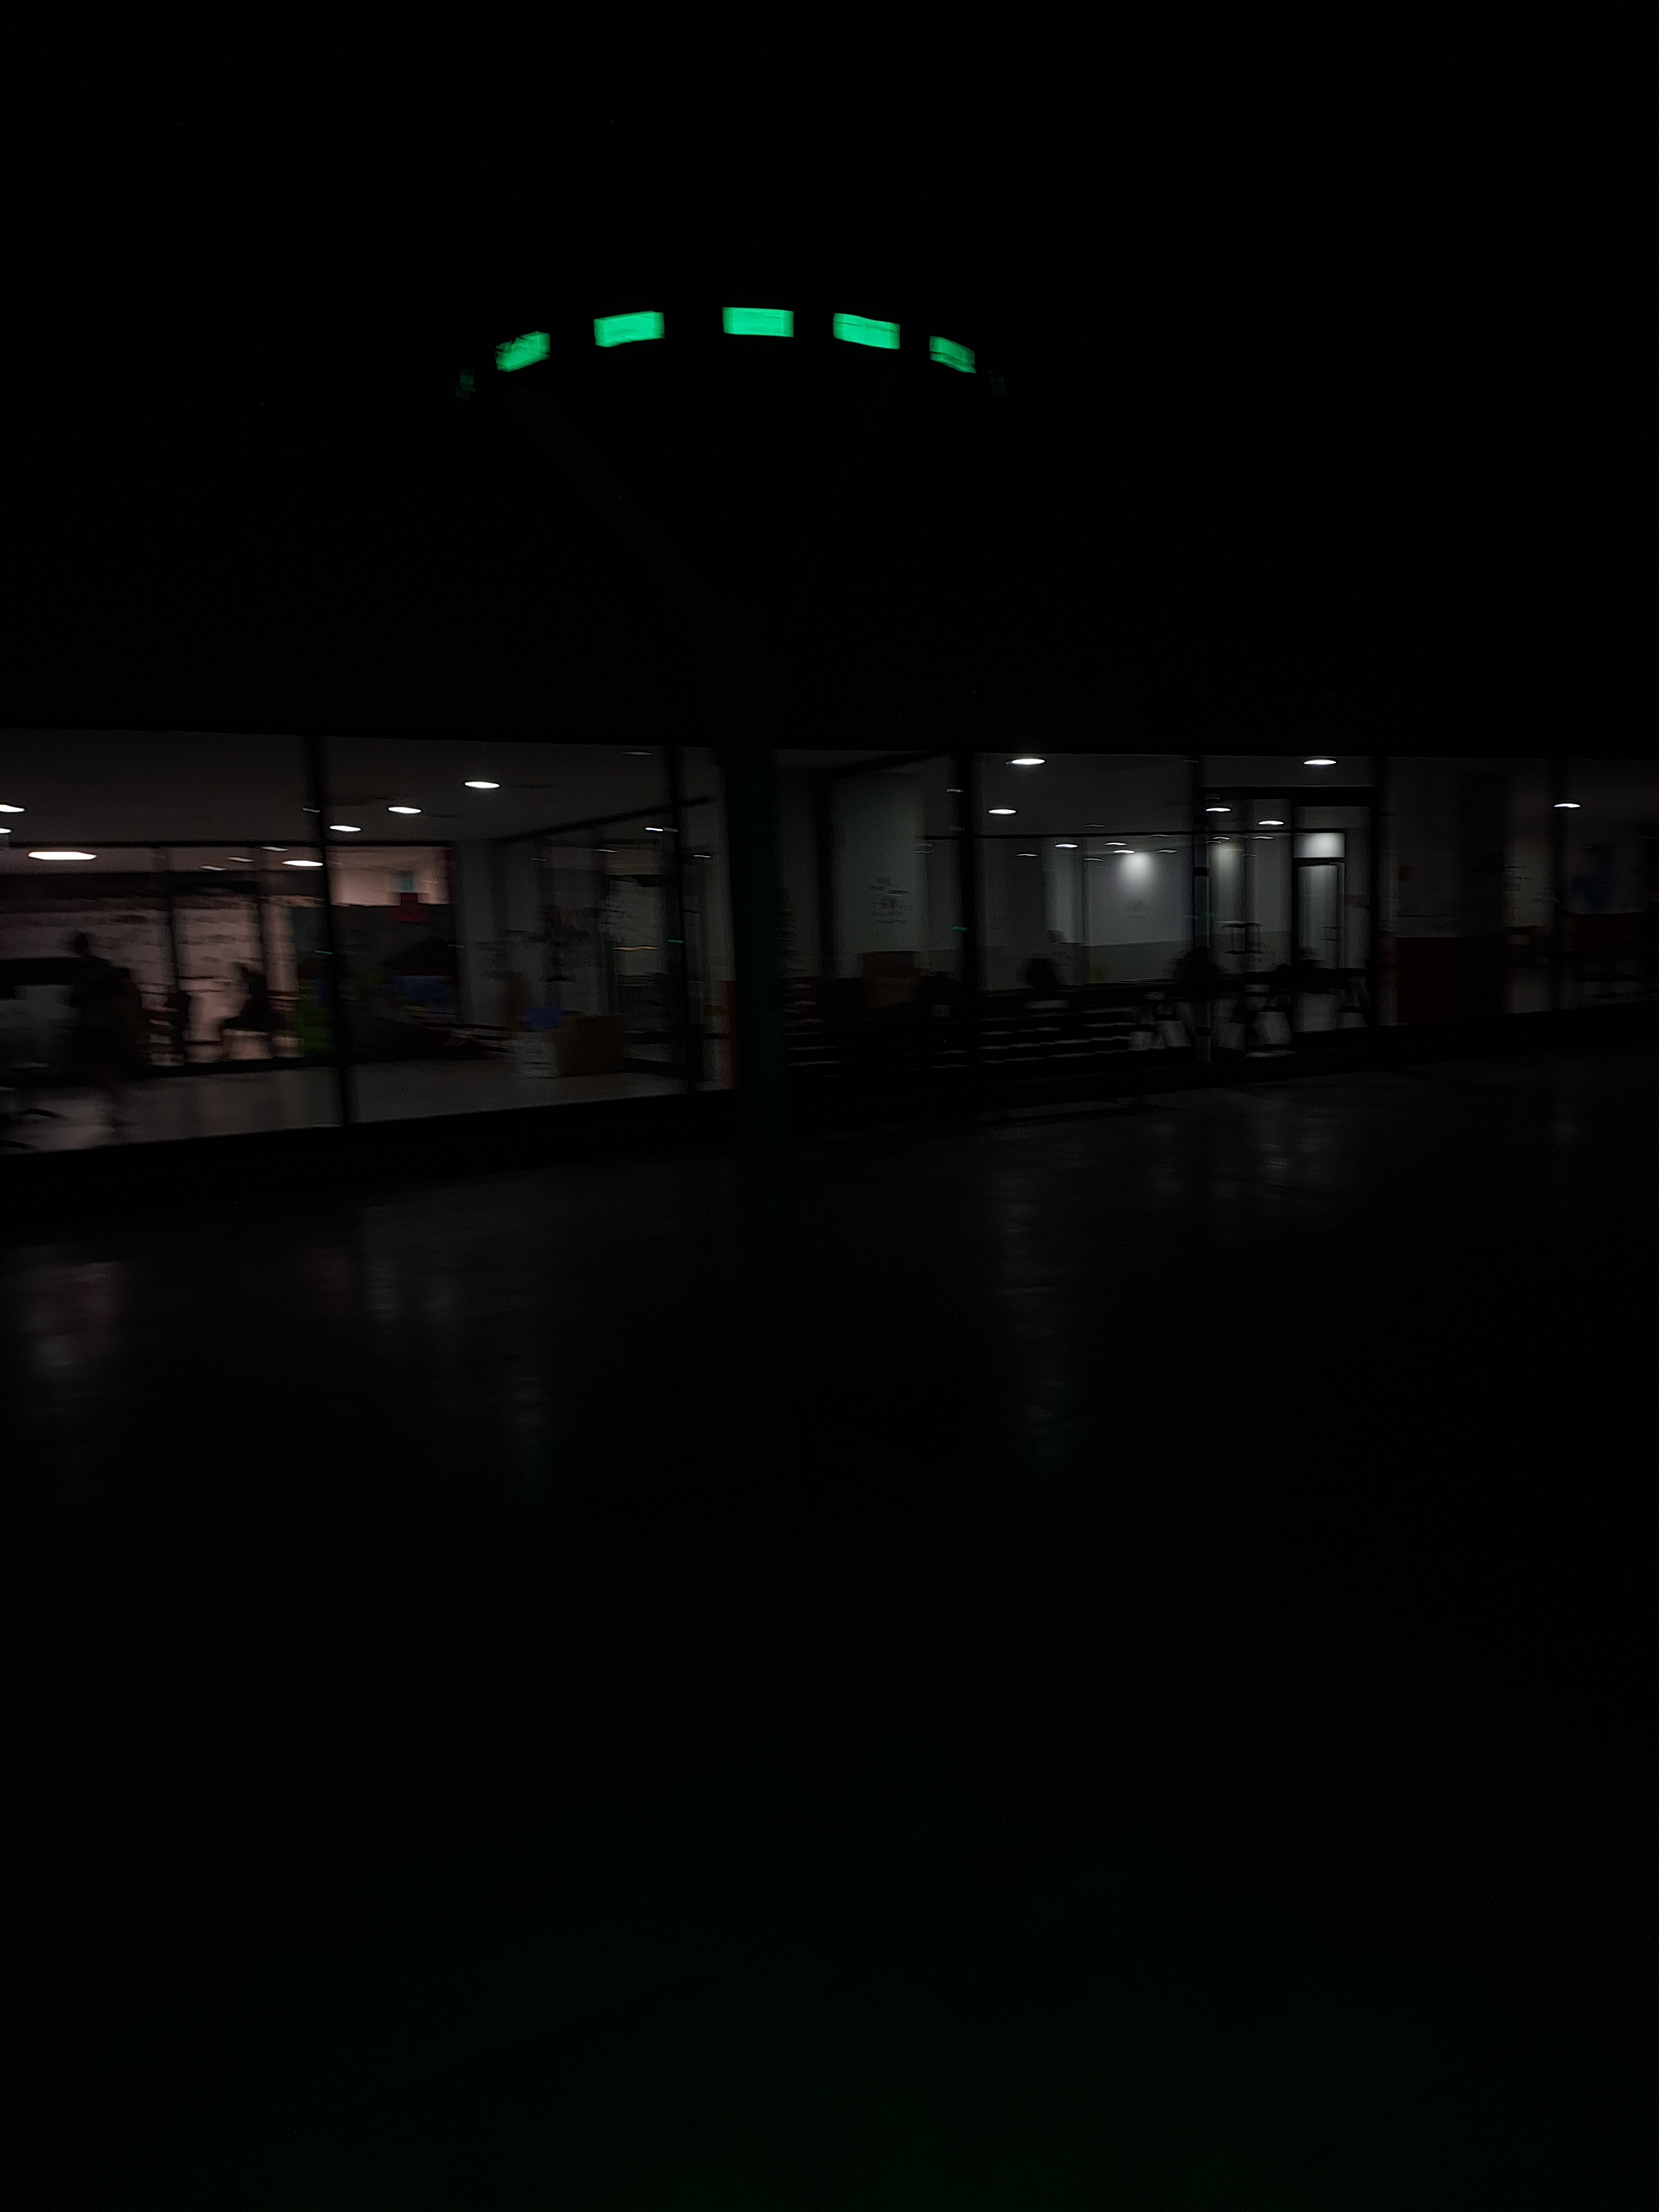hoop: (486, 286, 985, 401)
